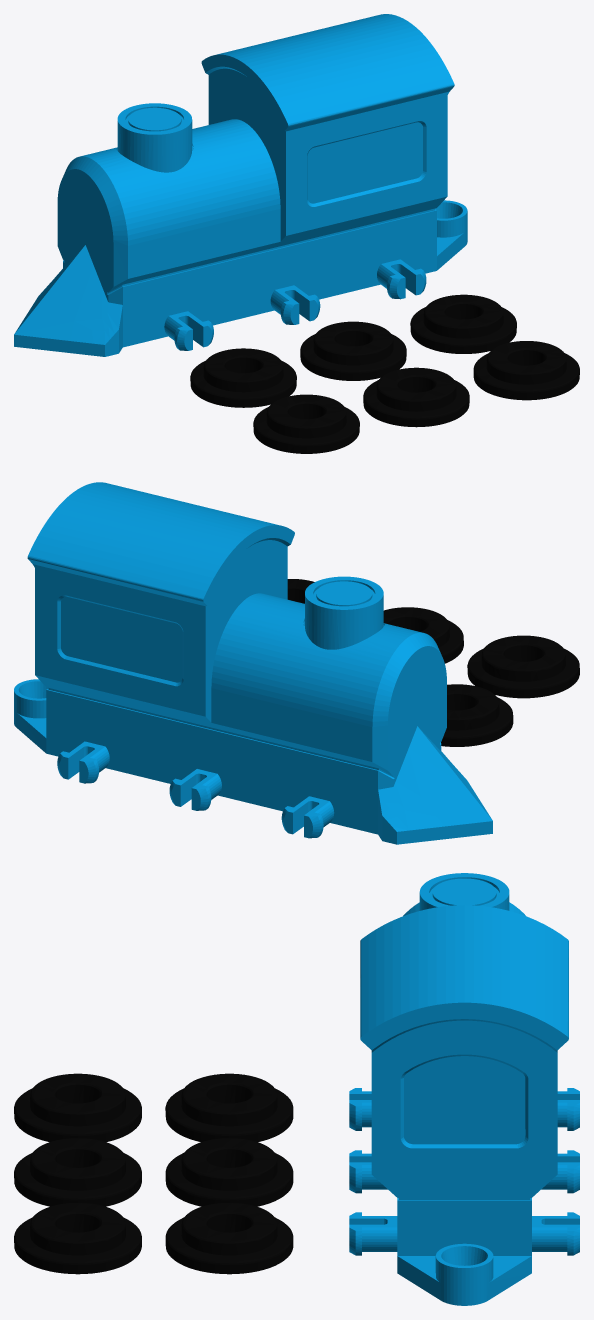
The model's file is Engine.glb.
The picture shows the model from 3 angles, top to bottom: view 1: azimuth 30°, elevation 25°; view 2: azimuth 150°, elevation 25°; view 3: azimuth 270°, elevation 25°; orthographic projection. The views are drawn at different scales.
Visible parts, largest first — view 1: 3MFMeshParent_6, 3MFMeshParent_11, 3MFMeshParent_9, 3MFMeshParent_10, 3MFMeshParent_8, 3MFMeshParent_12, 3MFMeshParent_7; view 2: 3MFMeshParent_6, 3MFMeshParent_11, 3MFMeshParent_8, 3MFMeshParent_9, 3MFMeshParent_10; view 3: 3MFMeshParent_6, 3MFMeshParent_12, 3MFMeshParent_10, 3MFMeshParent_9, 3MFMeshParent_7, 3MFMeshParent_8, 3MFMeshParent_11.
Boxes of the visible parts, x1,y1,x2,y2 form: 3MFMeshParent_6: (14, 14, 467, 356); 3MFMeshParent_11: (253, 394, 359, 453); 3MFMeshParent_9: (363, 367, 469, 427); 3MFMeshParent_10: (473, 341, 579, 400); 3MFMeshParent_8: (190, 348, 296, 407); 3MFMeshParent_12: (410, 294, 516, 353); 3MFMeshParent_7: (300, 321, 406, 380); 3MFMeshParent_6: (14, 482, 492, 844); 3MFMeshParent_11: (467, 635, 579, 698); 3MFMeshParent_8: (441, 684, 513, 746); 3MFMeshParent_9: (383, 607, 463, 663); 3MFMeshParent_10: (287, 579, 314, 603); 3MFMeshParent_6: (349, 873, 579, 1305); 3MFMeshParent_12: (165, 1203, 293, 1274); 3MFMeshParent_10: (14, 1203, 141, 1274); 3MFMeshParent_9: (14, 1138, 141, 1206); 3MFMeshParent_7: (165, 1138, 293, 1206); 3MFMeshParent_8: (165, 1073, 293, 1141); 3MFMeshParent_11: (14, 1073, 141, 1142).
Size of the model in its own units: 97.5 by 46.84 by 88.3.
